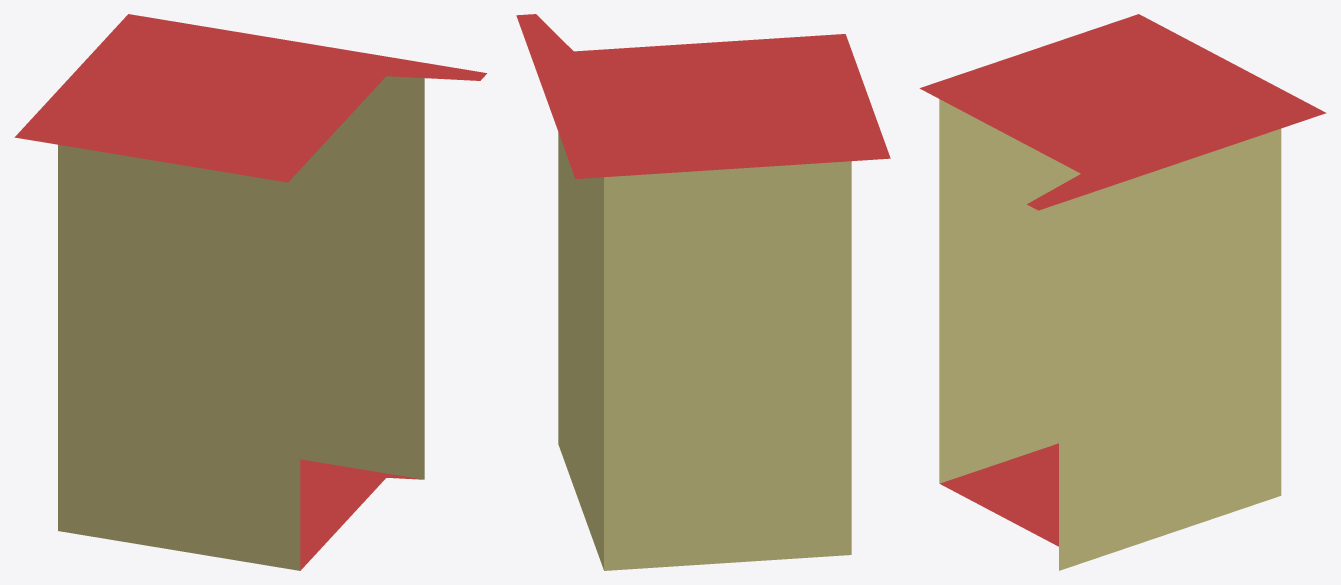
3 views of the same model, side by side, from view 1: azimuth 30°, elevation 25°; view 2: azimuth 150°, elevation 25°; view 3: azimuth 270°, elevation 25° (orthographic). The views are drawn at different scales.
Size of the model in its own units: 7.2 by 6.31 by 6.57.
